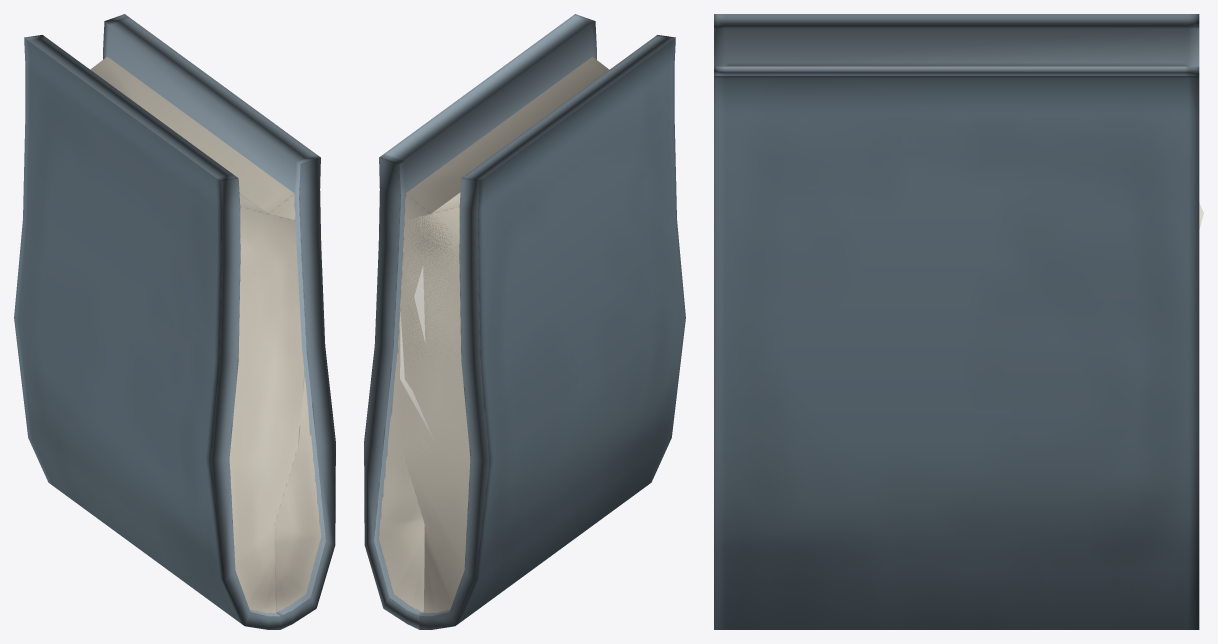
The model's file is GiantBook-openclose.fbx.
3 views of the same model, side by side, from view 1: azimuth 30°, elevation 25°; view 2: azimuth 150°, elevation 25°; view 3: azimuth 270°, elevation 25° (orthographic). The views are drawn at different scales.
Visible parts, largest first — view 1: GiantBook; view 2: GiantBook; view 3: GiantBook.
Boxes of the visible parts, x1=… form: GiantBook: x1=14, y1=14, x2=335, y2=629; GiantBook: x1=364, y1=14, x2=685, y2=629; GiantBook: x1=714, y1=14, x2=1203, y2=629.
Size of the model in its own units: 136 by 479 by 371.
1 material, 1 textured.
